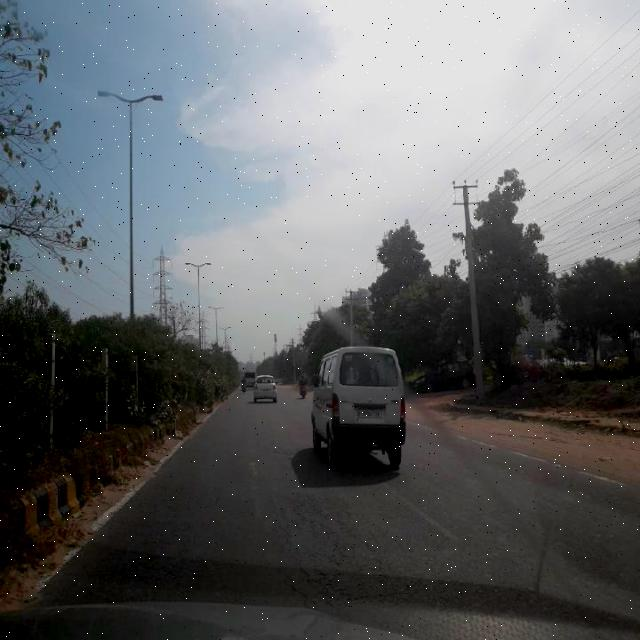D20: (82, 460, 610, 622)
